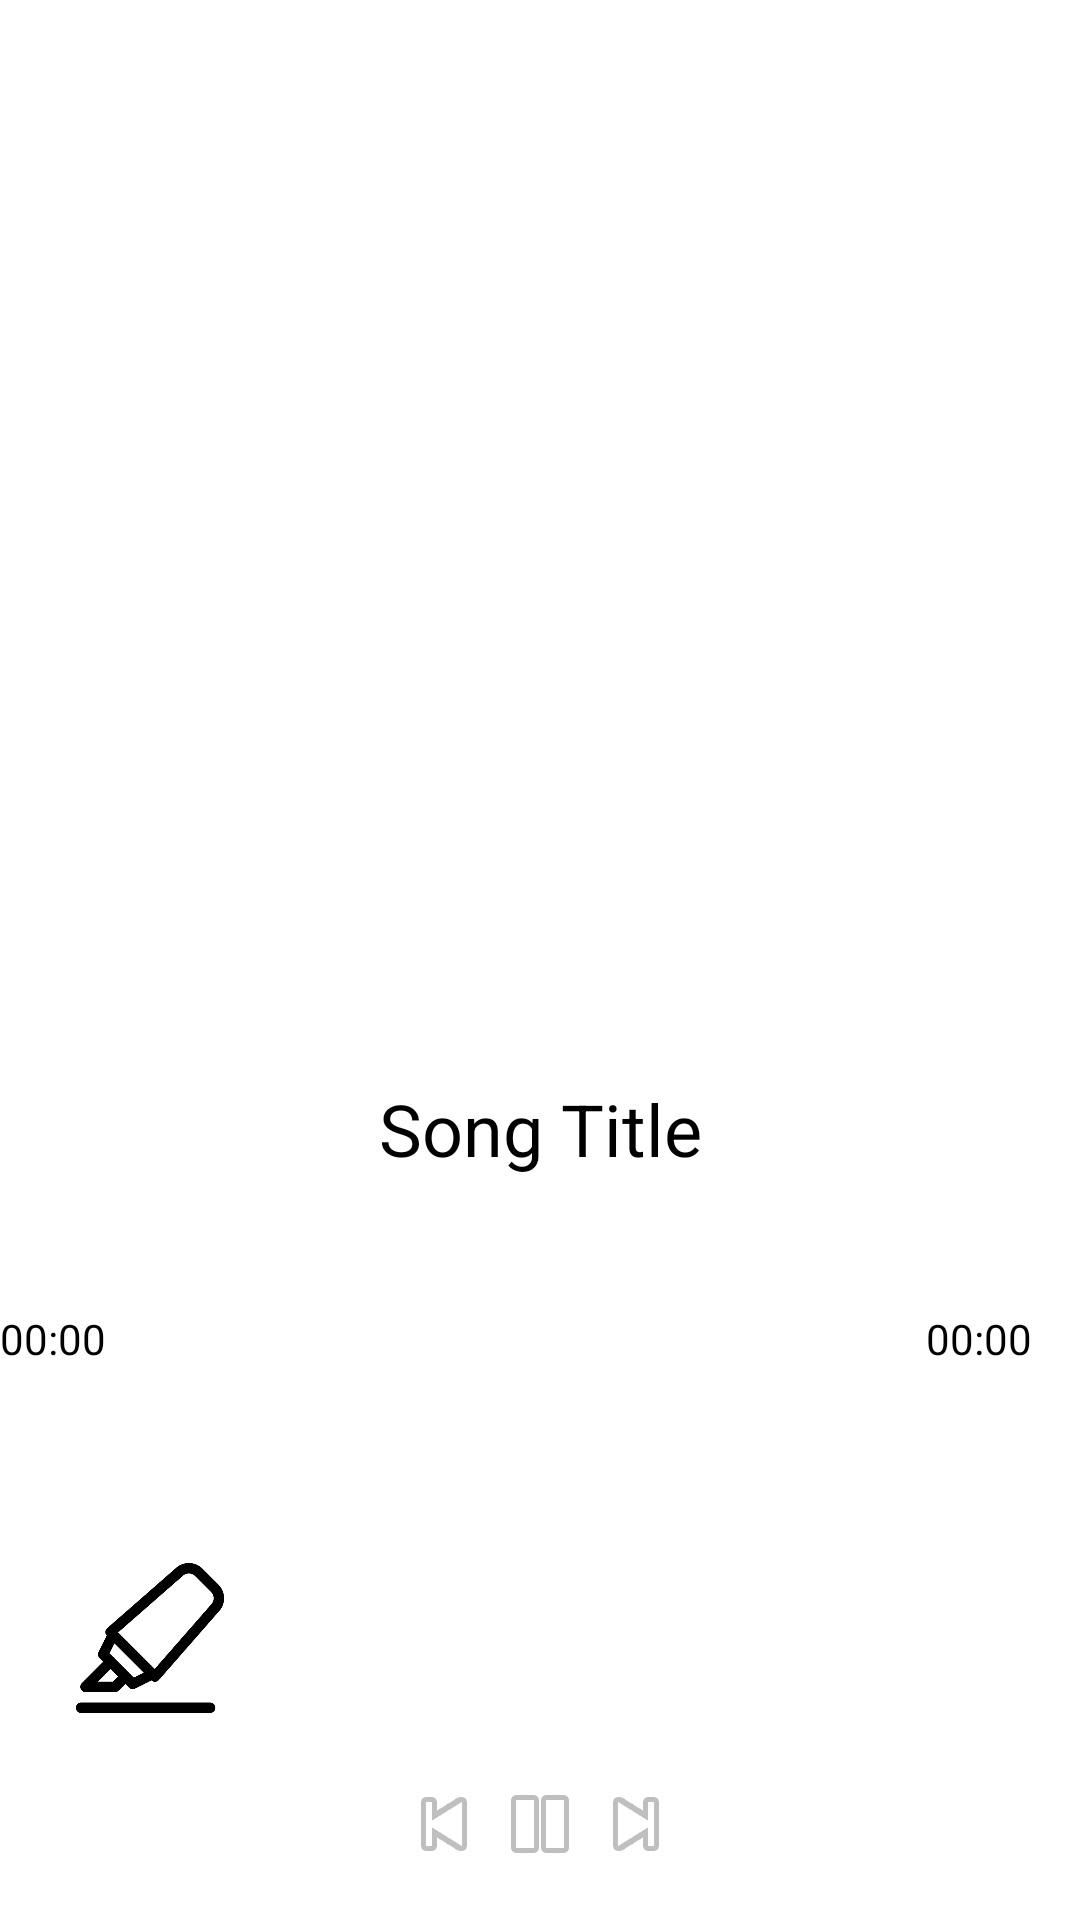

Icons on this 1080×1920 Android screen, each with the point to tap as [x,y]:
highlight: [150,1638]
Next: [636,1824]
Play/Pause: [540,1824]
Previous: [444,1824]
